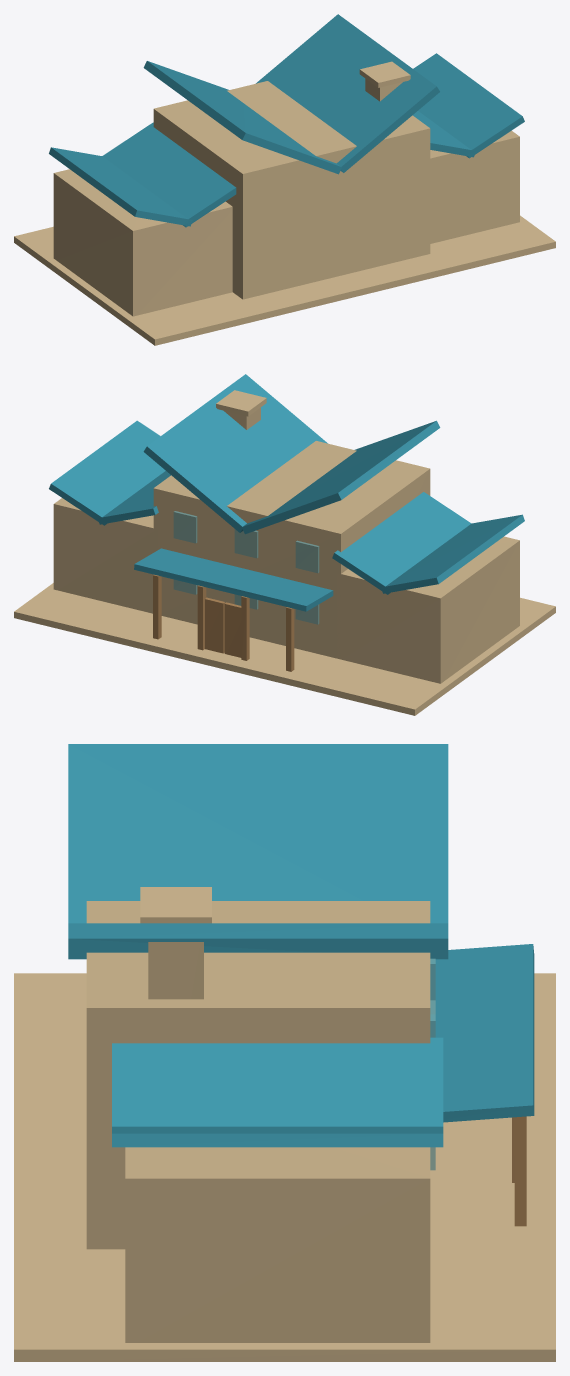
File: manor-farmhouse.source.glb
3 views of the same model, one above another, from view 1: azimuth 30°, elevation 25°; view 2: azimuth 150°, elevation 25°; view 3: azimuth 270°, elevation 25° (orthographic). The views are drawn at different scales.
Visible parts, largest first — view 1: manor-farmhouse-central-hall-mesh, manor-farmhouse-west-wing-mesh, manor-farmhouse-footing-mesh, manor-farmhouse-central-roof-east-mesh, manor-farmhouse-east-wing-mesh, manor-farmhouse-wing-roof-east--6.5-mesh, manor-farmhouse-wing-roof-east-6.5-mesh, manor-farmhouse-central-roof-west-mesh, manor-farmhouse-wing-roof-west--6.5-mesh, manor-farmhouse-wing-roof-west-6.5-mesh, manor-farmhouse-chimney-cap-mesh; view 2: manor-farmhouse-central-hall-mesh, manor-farmhouse-west-wing-mesh, manor-farmhouse-footing-mesh, manor-farmhouse-central-roof-east-mesh, manor-farmhouse-east-wing-mesh, manor-farmhouse-wing-roof-east--6.5-mesh, manor-farmhouse-wing-roof-east-6.5-mesh, manor-farmhouse-porch-roof-mesh, manor-farmhouse-central-roof-west-mesh, manor-farmhouse-wing-roof-west--6.5-mesh, manor-farmhouse-wing-roof-west-6.5-mesh, manor-farmhouse-right-door-mesh (+9 smaller); view 3: manor-farmhouse-footing-mesh, manor-farmhouse-east-wing-mesh, manor-farmhouse-central-roof-west-mesh, manor-farmhouse-central-hall-mesh, manor-farmhouse-wing-roof-west-6.5-mesh, manor-farmhouse-porch-roof-mesh, manor-farmhouse-central-roof-east-mesh, manor-farmhouse-wing-roof-east-6.5-mesh, manor-farmhouse-chimney-stack-mesh, manor-farmhouse-chimney-cap-mesh, manor-farmhouse-porch-post-3.05-mesh.
Part boxes in pixels (x1,y1,x2,y2): manor-farmhouse-central-hall-mesh: (153,81,430,299); manor-farmhouse-west-wing-mesh: (53,169,232,316); manor-farmhouse-footing-mesh: (14,215,555,345); manor-farmhouse-central-roof-east-mesh: (256,14,439,172); manor-farmhouse-east-wing-mesh: (430,130,519,243); manor-farmhouse-wing-roof-east--6.5-mesh: (102,122,236,227); manor-farmhouse-wing-roof-east-6.5-mesh: (413,53,524,158); manor-farmhouse-central-roof-west-mesh: (143,61,341,174); manor-farmhouse-wing-roof-west--6.5-mesh: (49,147,192,226); manor-farmhouse-wing-roof-west-6.5-mesh: (412,111,475,157); manor-farmhouse-chimney-cap-mesh: (359,61,410,87); manor-farmhouse-central-hall-mesh: (153,441,430,658); manor-farmhouse-west-wing-mesh: (337,536,519,683); manor-farmhouse-footing-mesh: (14,583,555,715); manor-farmhouse-central-roof-east-mesh: (143,374,327,532); manor-farmhouse-east-wing-mesh: (53,498,157,613); manor-farmhouse-wing-roof-east--6.5-mesh: (332,492,471,594); manor-farmhouse-wing-roof-east-6.5-mesh: (49,420,165,525); manor-farmhouse-porch-roof-mesh: (134,548,333,611); manor-farmhouse-central-roof-west-mesh: (242,420,440,534); manor-farmhouse-wing-roof-west--6.5-mesh: (381,514,524,593); manor-farmhouse-wing-roof-west-6.5-mesh: (98,471,170,524); manor-farmhouse-right-door-mesh: (205,597,225,653); manor-farmhouse-footing-mesh: (14,973,555,1361); manor-farmhouse-east-wing-mesh: (125,1147,430,1342); manor-farmhouse-central-roof-west-mesh: (68,744,448,923); manor-farmhouse-central-hall-mesh: (86,901,430,1249); manor-farmhouse-wing-roof-west-6.5-mesh: (112,1037,443,1126); manor-farmhouse-porch-roof-mesh: (430,944,534,1122); manor-farmhouse-central-roof-east-mesh: (68,923,448,959); manor-farmhouse-wing-roof-east-6.5-mesh: (112,1126,443,1147); manor-farmhouse-chimney-stack-mesh: (148,942,203,999); manor-farmhouse-chimney-cap-mesh: (140,887,211,923); manor-farmhouse-porch-post-3.05-mesh: (514,1116,526,1226).
Size of the model in its own units: 18.4 by 7.76 by 11.2.
